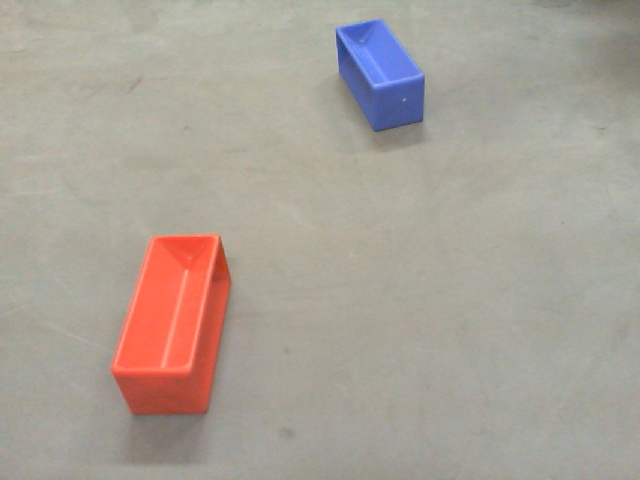BlueSample: (336, 18, 432, 135)
RedSample: (106, 229, 230, 423)
